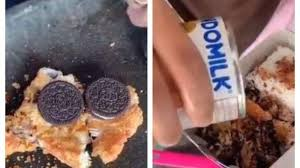ayam_geprek: (5, 67, 131, 161)
